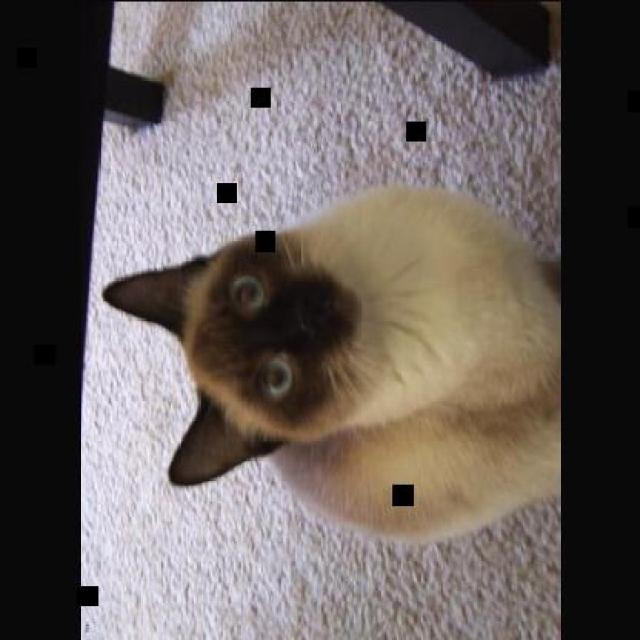unauthorized: (100, 182, 560, 543)
